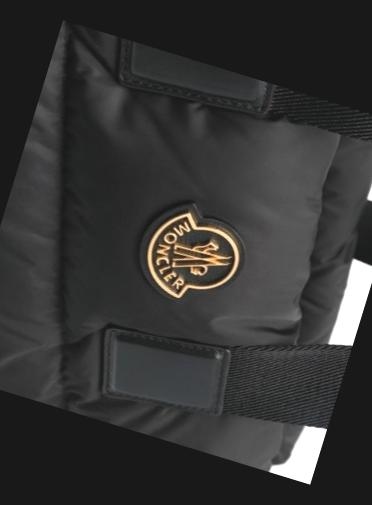MONCLER: (123, 190, 256, 320)
